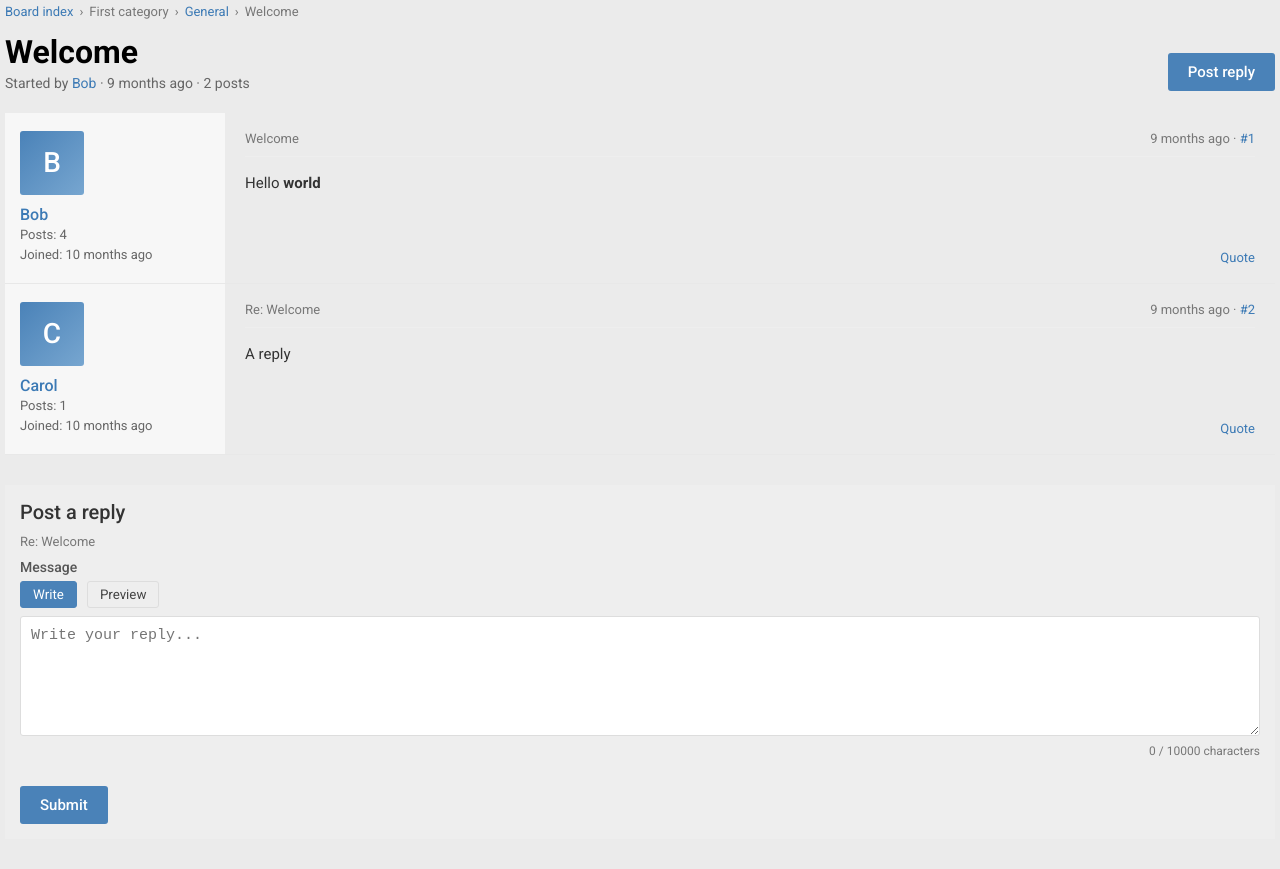
reply error 409 duplicate_post is translated and the draft is kept
The image size is (1280, 869).
Type "my draft" into the text box labelled "Message" at (640, 676), box [20,616,1260,736]
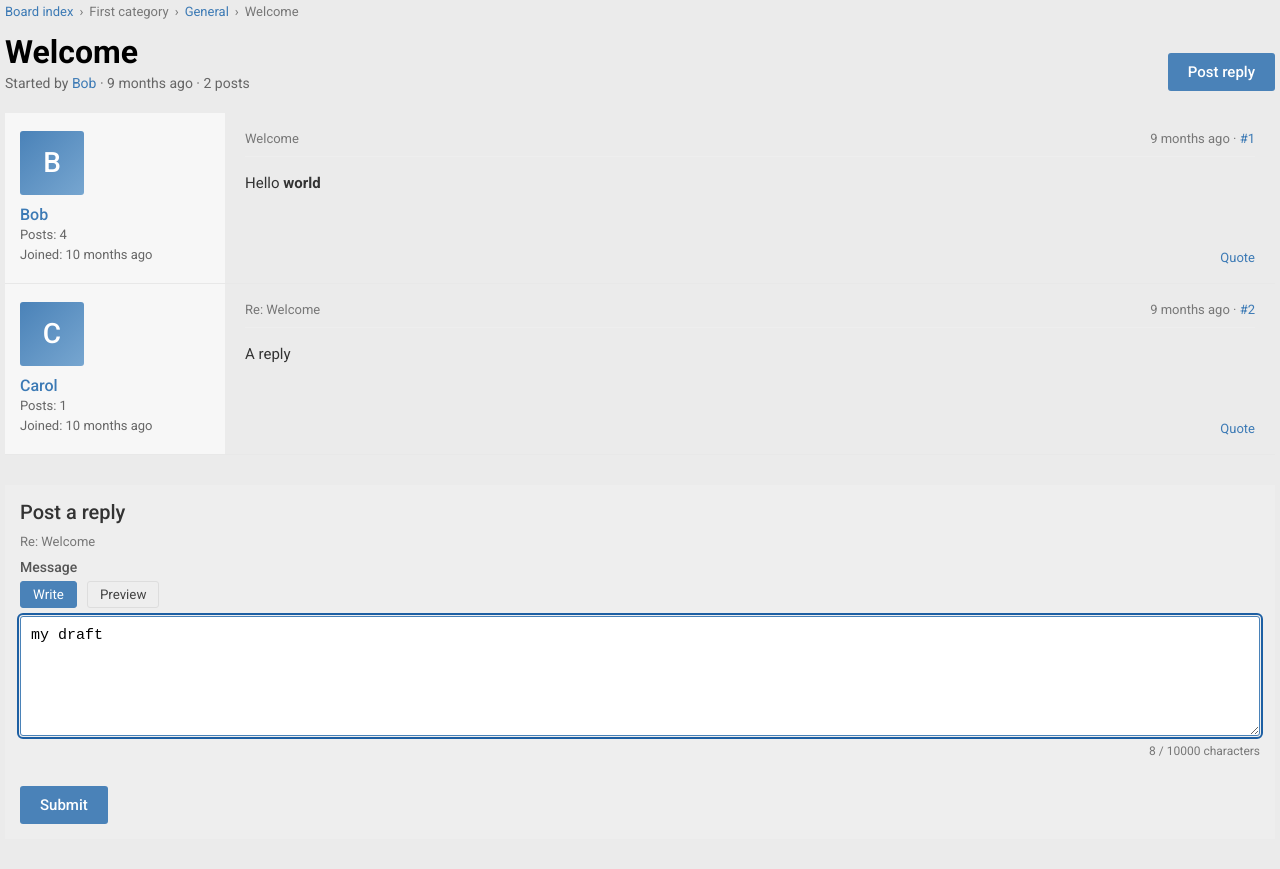
Click the button "Submit" at (64, 805), box [20,786,108,824]
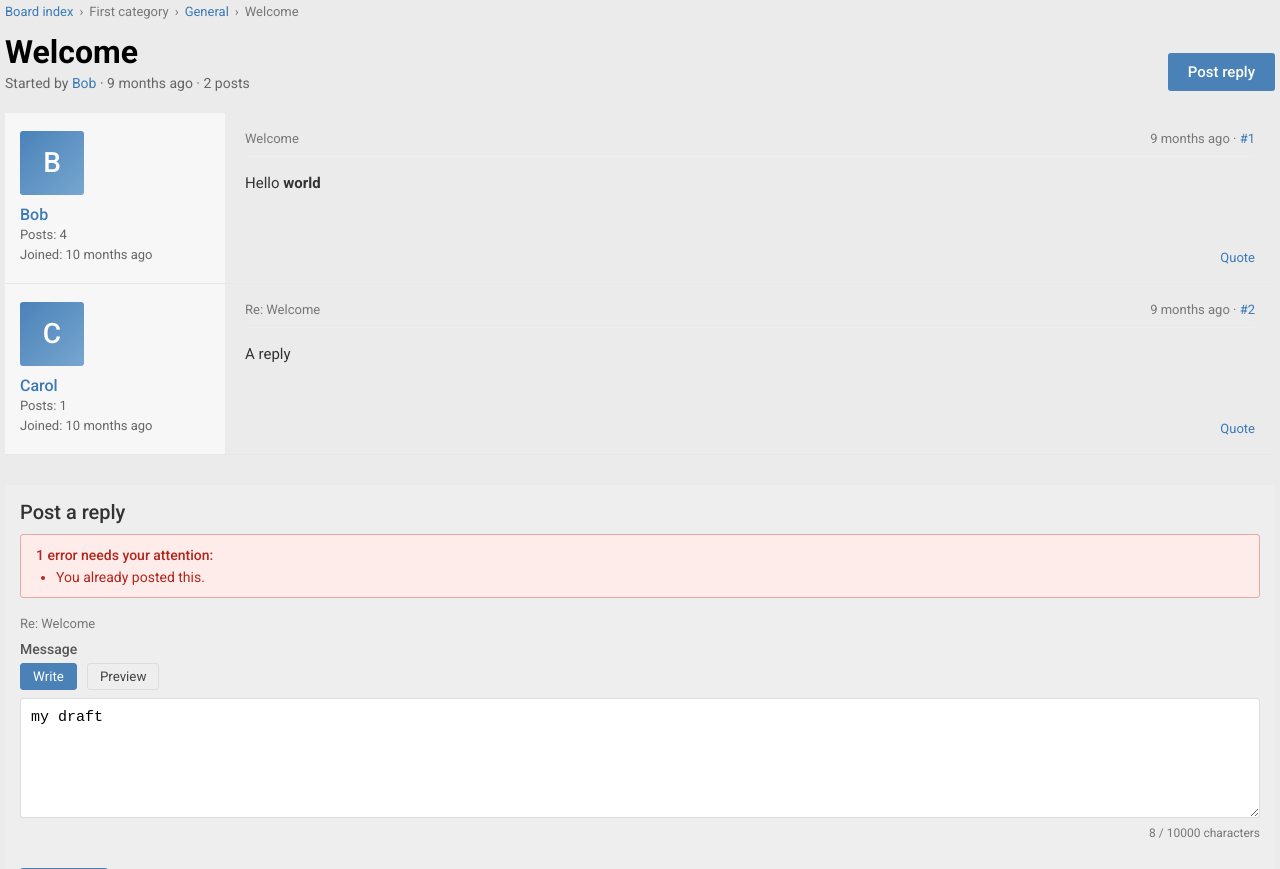
expect the message shows "You already posted this.": met, box [56,569,205,585]
